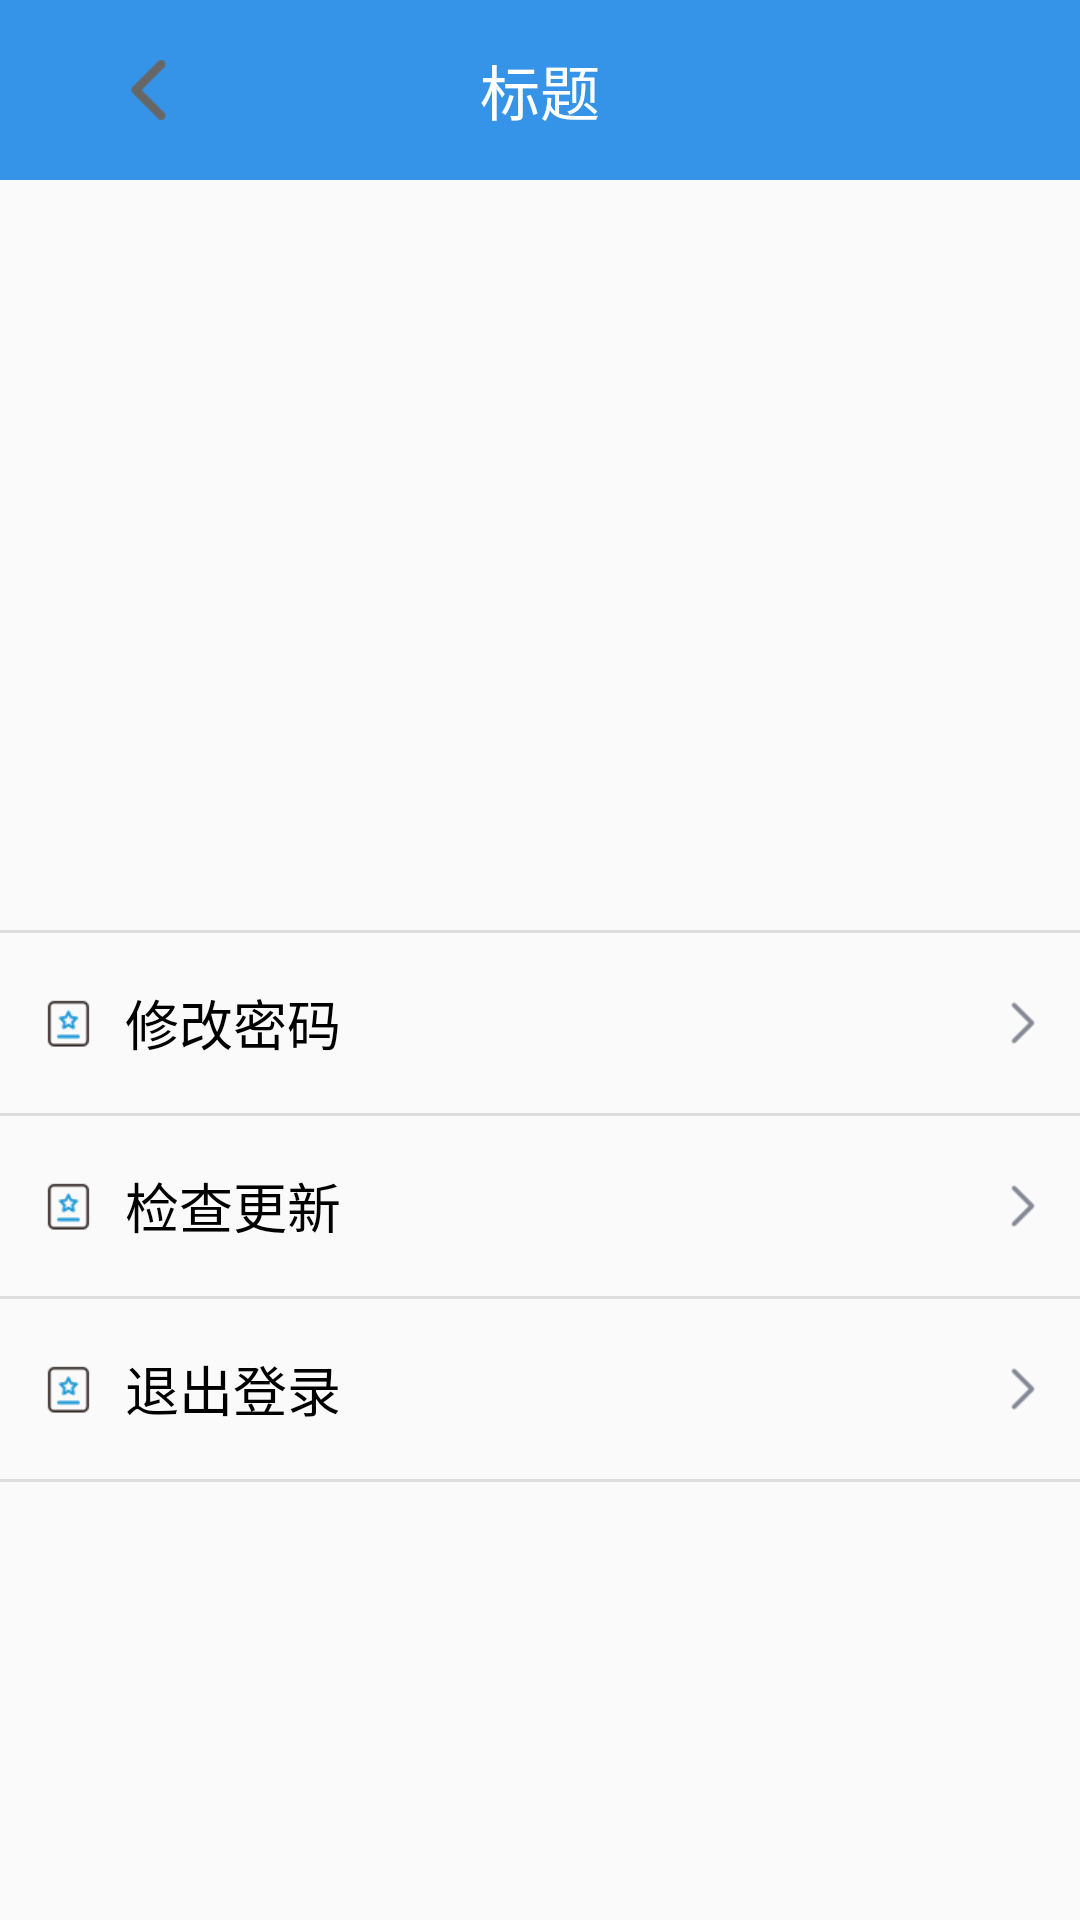

Icon bounding boxes for this 1080w x 1920h phone screenshot, format (x1, y1, x2, y2):
back: (131, 60, 166, 120)
